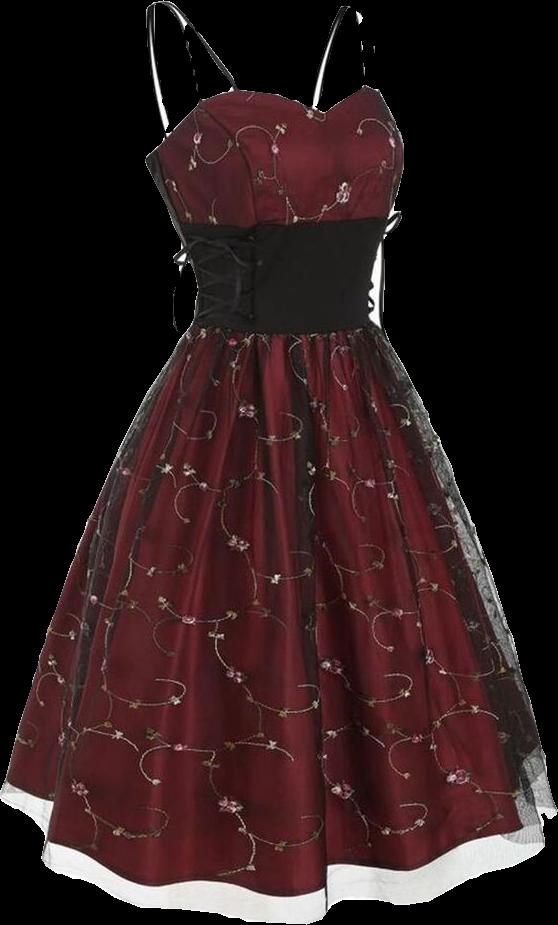Bodice: (145, 85, 403, 335)
Hemline: (0, 790, 557, 924)
Neckline: (141, 84, 376, 166), (170, 209, 390, 232)
Skirt: (0, 322, 557, 922)
Waistline: (187, 320, 380, 343)
